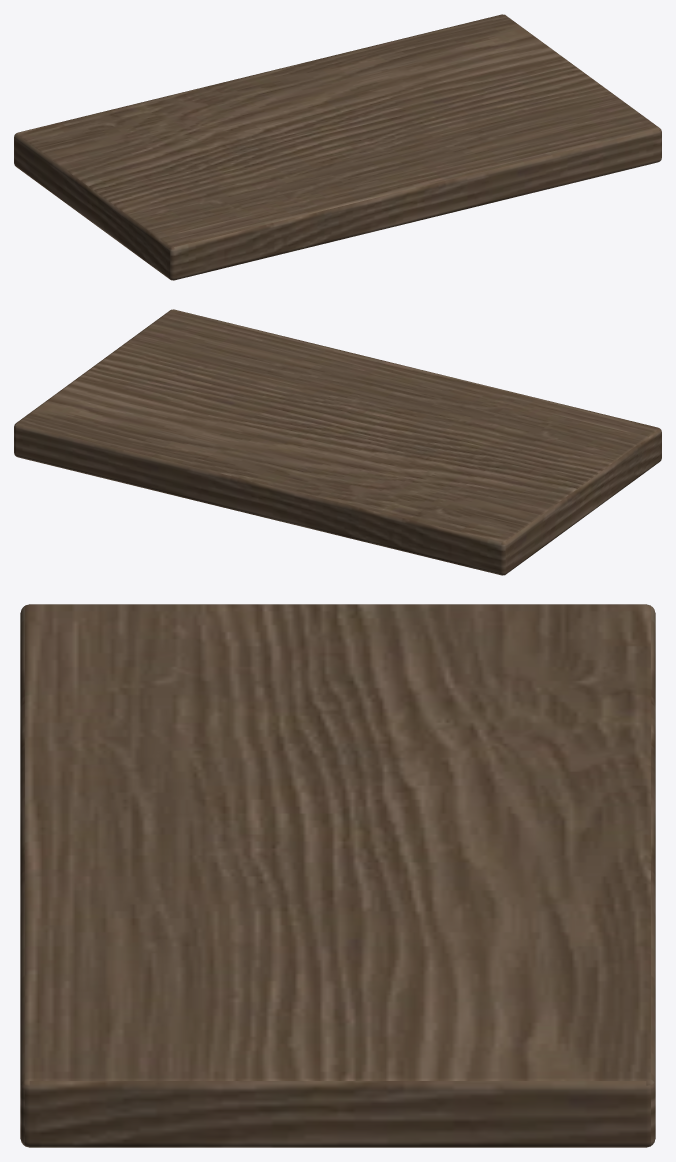
Rendered from bench.glb.
3 views of the same model, one above another, from view 1: azimuth 30°, elevation 25°; view 2: azimuth 150°, elevation 25°; view 3: azimuth 270°, elevation 25° (orthographic). The views are drawn at different scales.
Parts seen in each view (by area): view 1: desk; view 2: desk; view 3: desk.
Boxes of the visible parts, x1,y1,x2,y2 form: desk: (14, 14, 661, 280); desk: (14, 309, 661, 575); desk: (20, 604, 655, 1147).
Bounding box in the file's own units: 269 × 17.99 × 150.
1 material, 1 textured.
